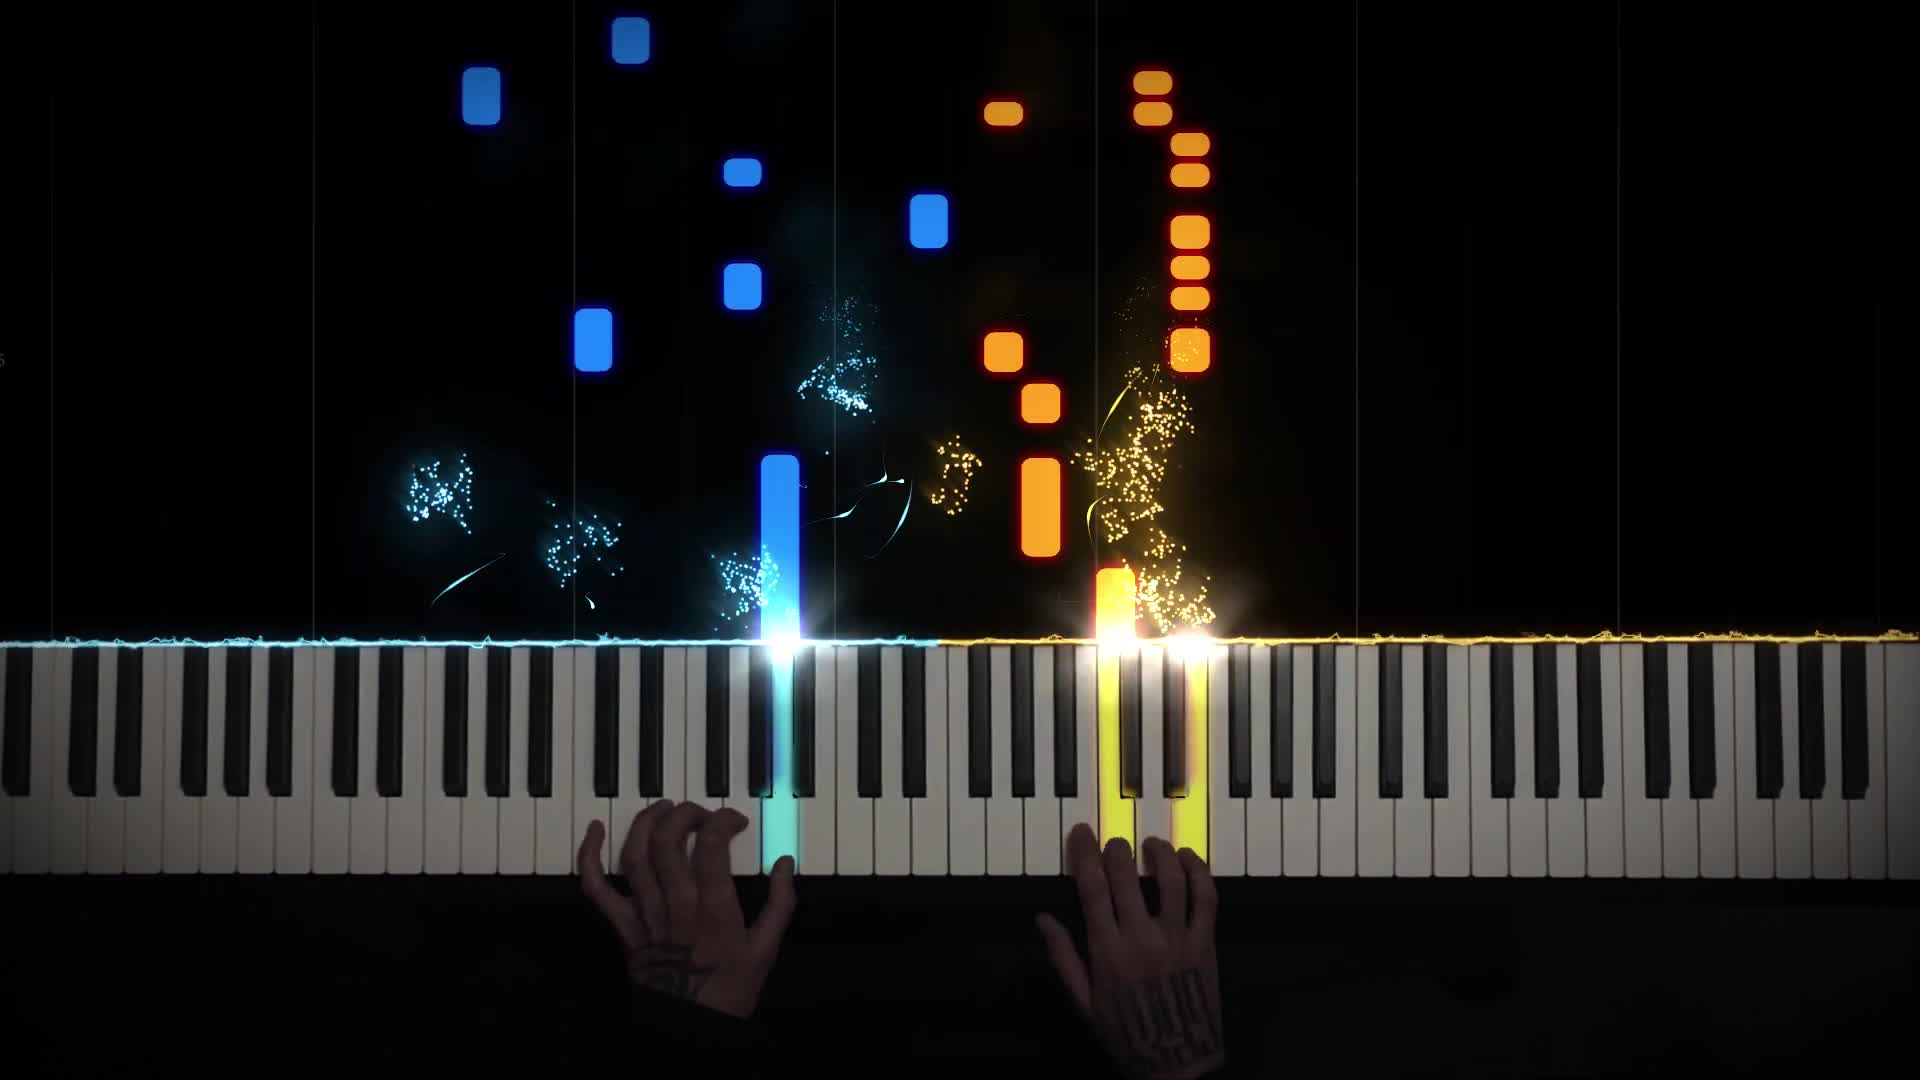left: (580, 798, 795, 1029)
right: (1031, 819, 1233, 1071)
